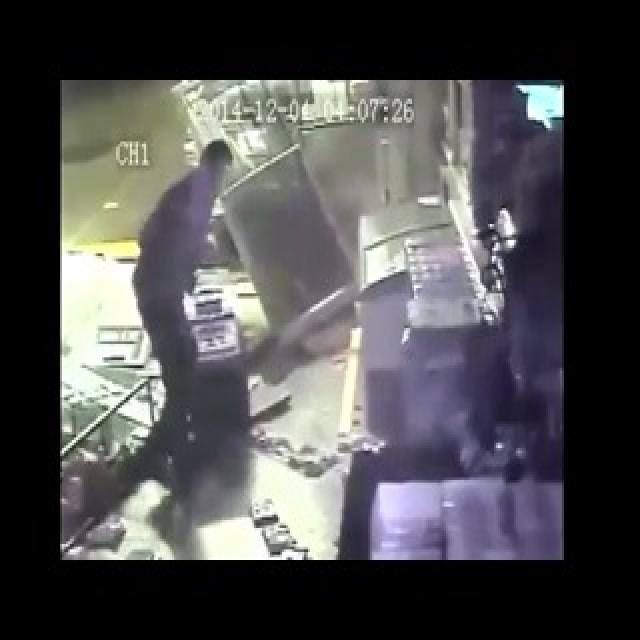thief: (190, 129, 284, 232)
